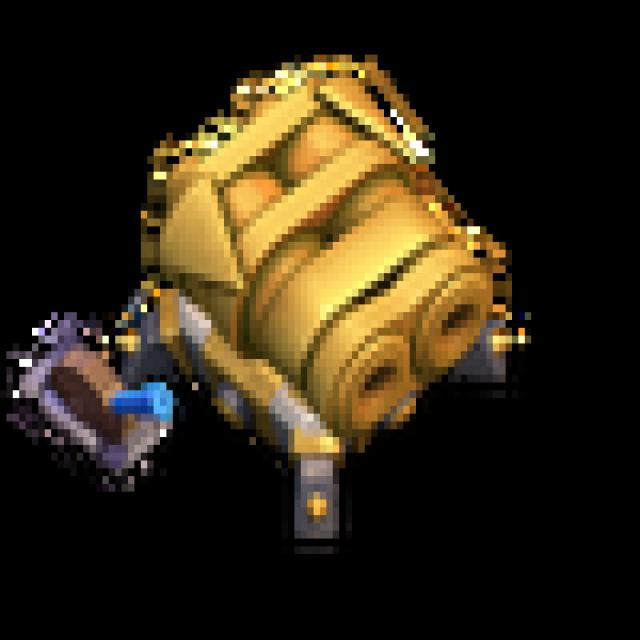cannon: (6, 40, 594, 563)
